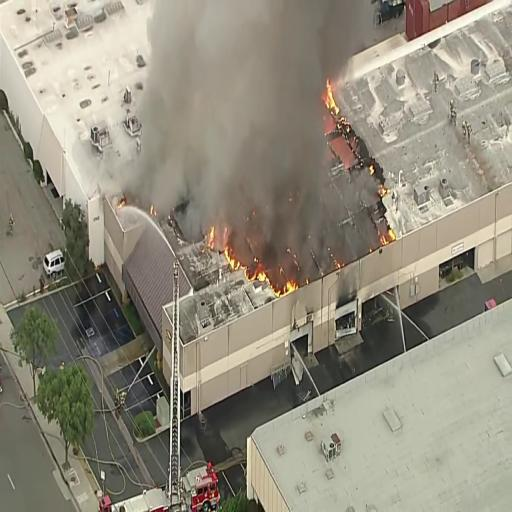smoke: (214, 0, 322, 176)
